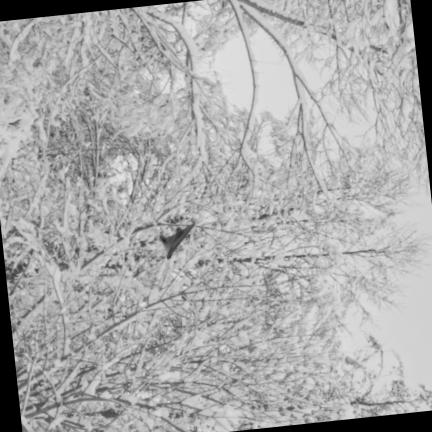Shahed: (160, 220, 193, 259)
